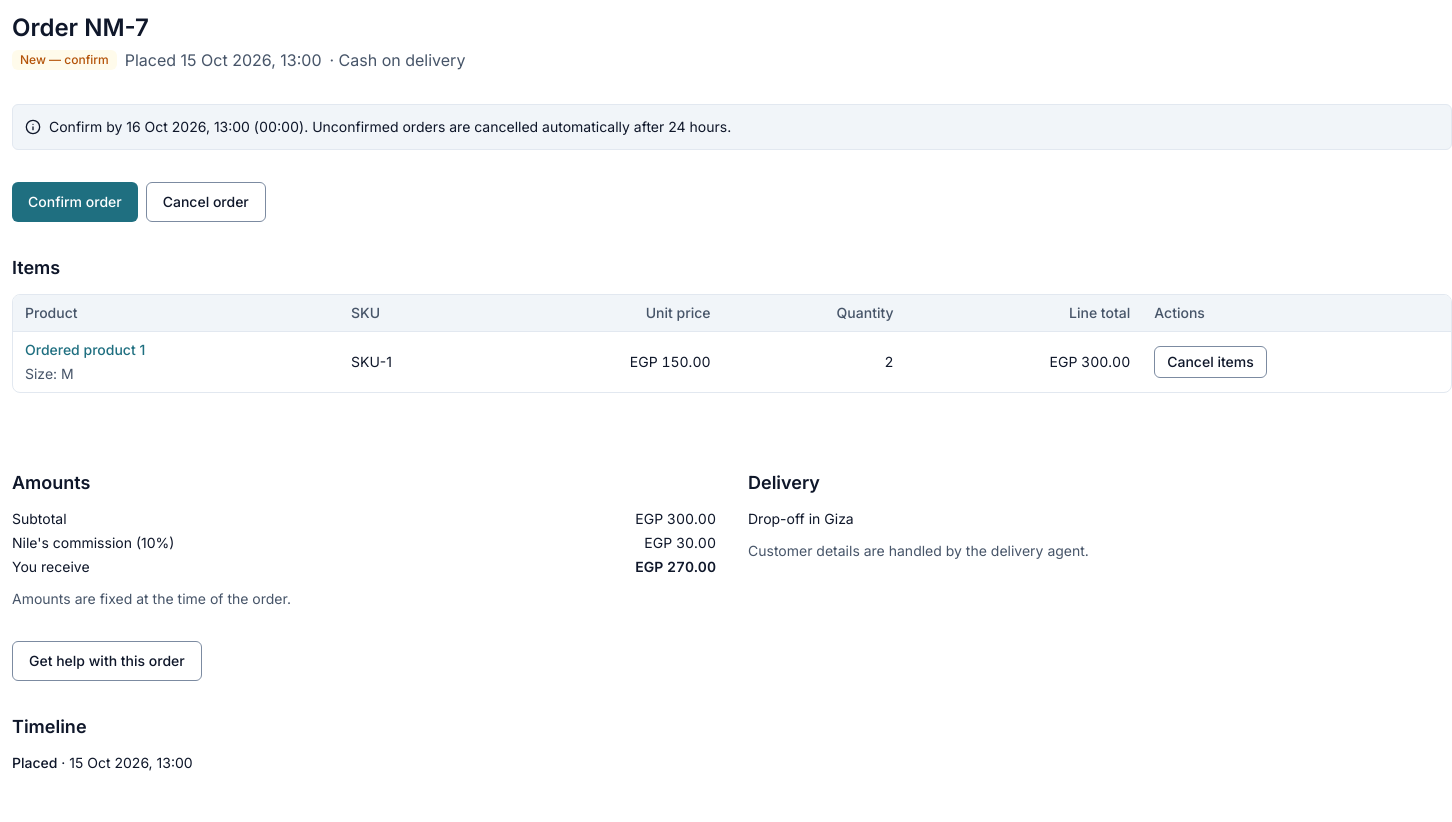
Test case: seller order (spec 02 SE-15) › Confirm order: the answer replaces the order
Click the button "Confirm order".
click(75, 202)  # box left=12, top=182, right=138, bottom=222
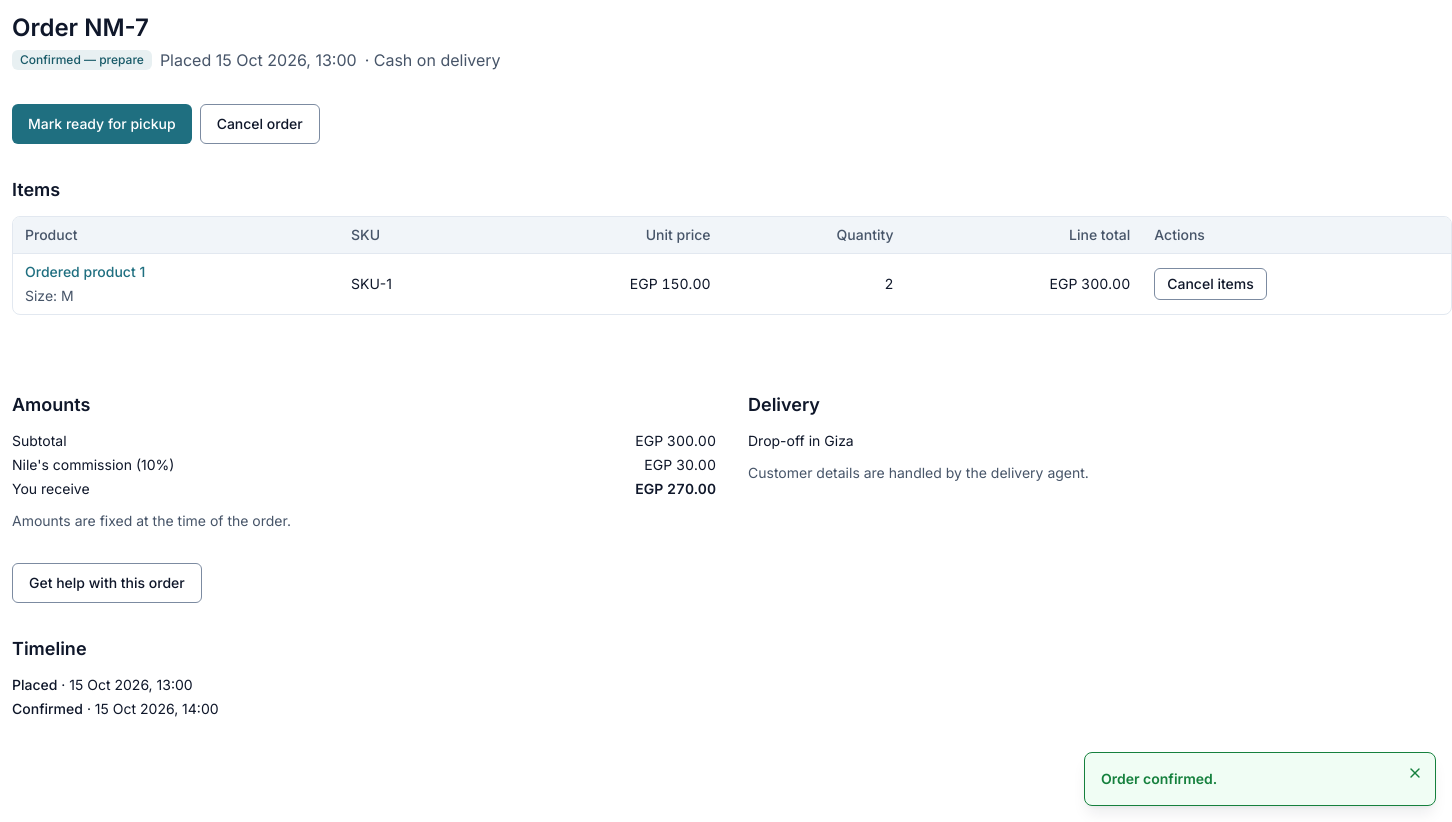
Check: the text "Order confirmed." is shown, box left=1101, top=770, right=1217, bottom=787
Check: the text "Confirmed — prepare" is shown, box left=12, top=50, right=152, bottom=70
Check: the button "Mark ready for pickup" is shown, box left=12, top=104, right=192, bottom=144
